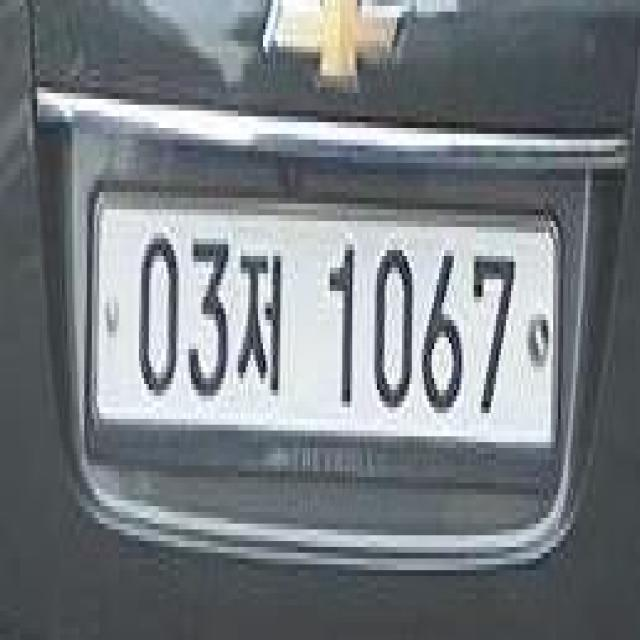illegal_plate: (90, 175, 566, 508)
